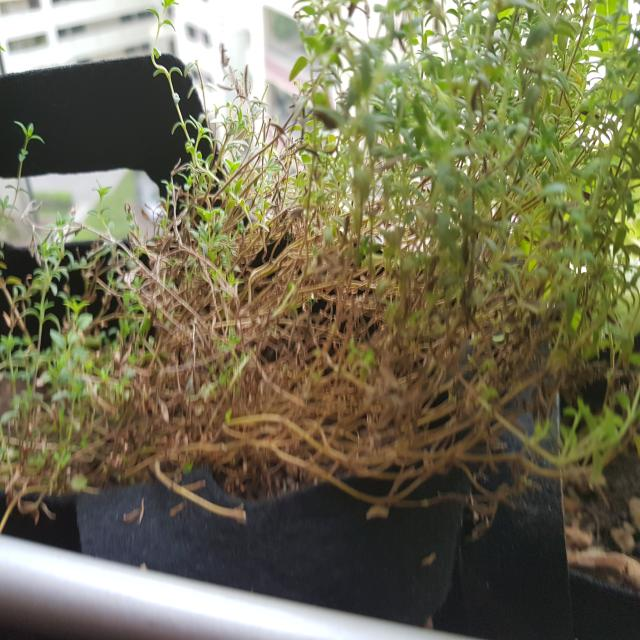Thyme: (8, 9, 640, 496)
